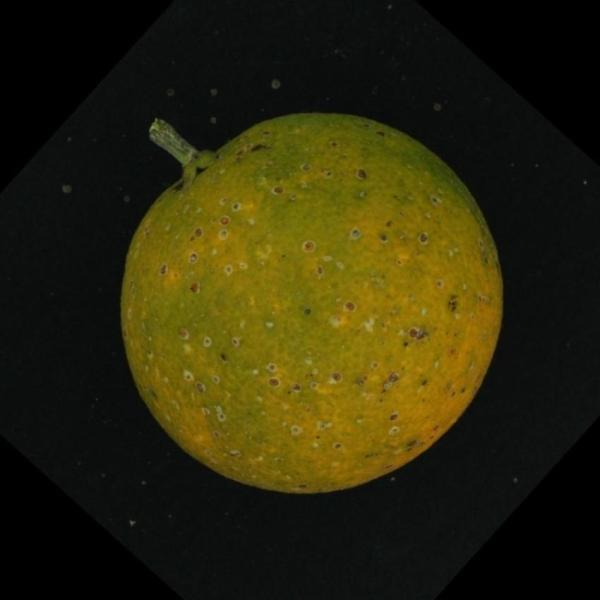Greening: (113, 106, 515, 518)
